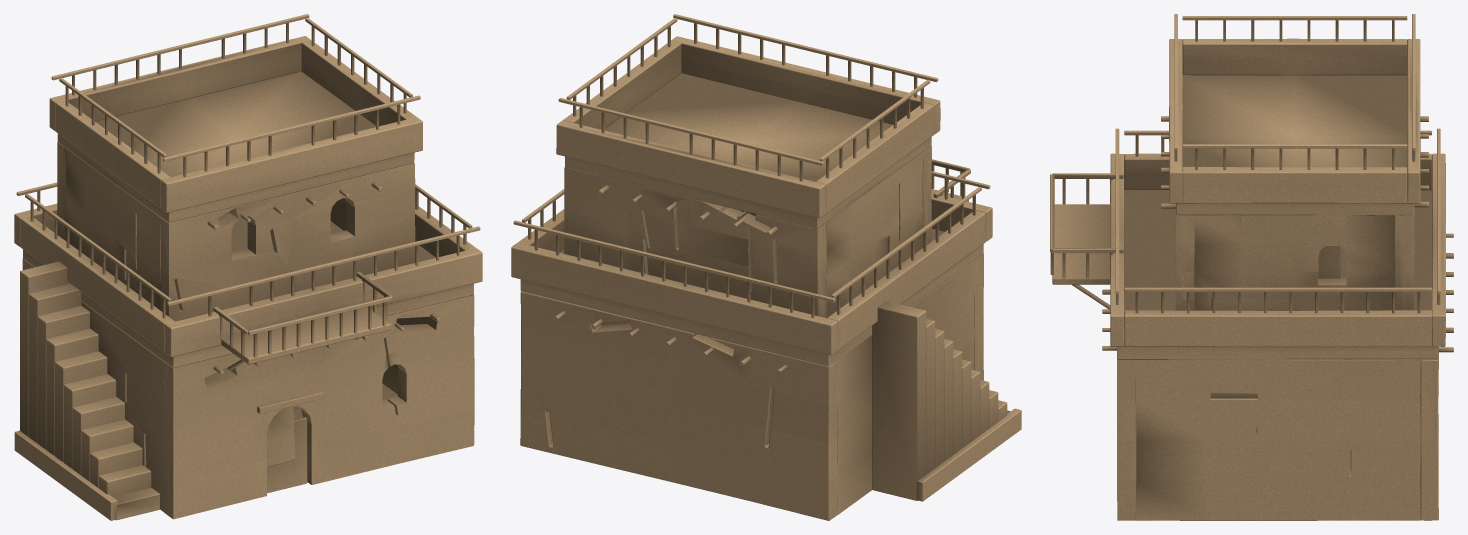
3 views of the same model, side by side, from view 1: azimuth 30°, elevation 25°; view 2: azimuth 150°, elevation 25°; view 3: azimuth 270°, elevation 25° (orthographic). The views are drawn at different scales.
Visible parts, largest first — view 1: house; view 2: house; view 3: house.
Part boxes in pixels (bbox=[...]): house: bbox=[14, 14, 482, 520]; house: bbox=[511, 14, 1021, 520]; house: bbox=[1050, 14, 1453, 520].
Size of the model in its own units: 10.81 by 9.76 by 9.93.
1 material, 1 textured.
